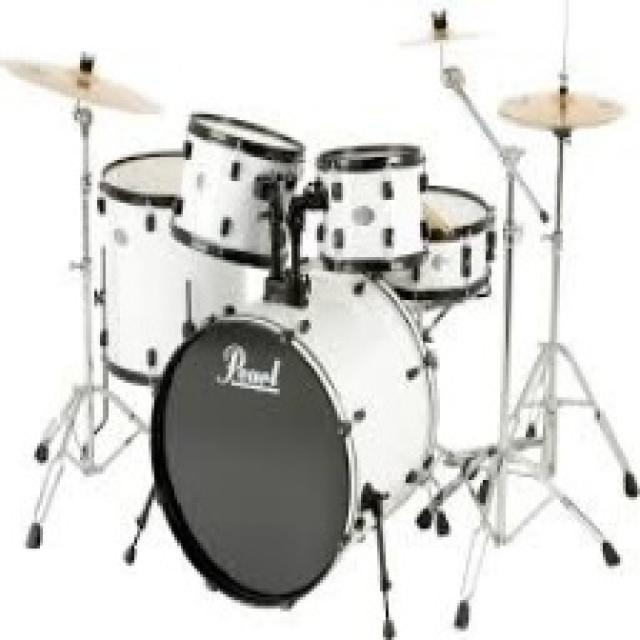drums: (2, 7, 627, 611)
